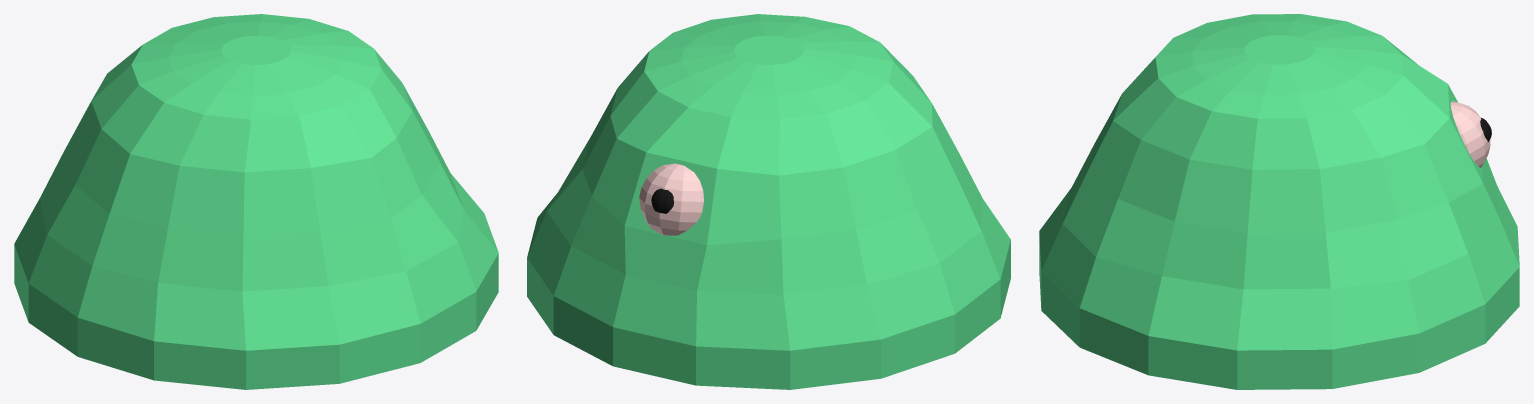
Rendered from SlimeEnemy.fbx.
3 views of the same model, side by side, from view 1: azimuth 30°, elevation 25°; view 2: azimuth 150°, elevation 25°; view 3: azimuth 270°, elevation 25° (orthographic).
Visible parts, largest first — view 1: Circle; view 2: Circle, Sphere, Sphere.001; view 3: Circle, Sphere.
Boxes of the visible parts, x1,y1,x2,y2 form: Circle: (14,14,498,389); Circle: (527,14,1010,389); Sphere: (639,163,703,235); Sphere.001: (651,188,673,213); Circle: (1039,14,1519,389); Sphere: (1450,101,1490,167).
Size of the model in its own units: 197 by 108 by 197.
